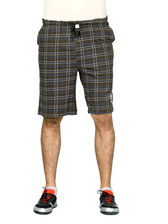clothoes: (28, 17, 122, 121)
shoes: (34, 181, 65, 217), (95, 185, 124, 216)
